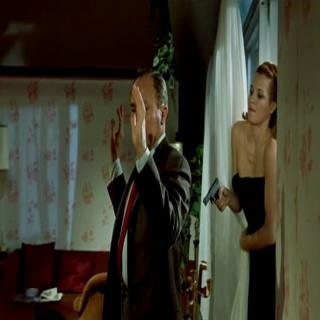gun: (204, 170, 232, 213)
